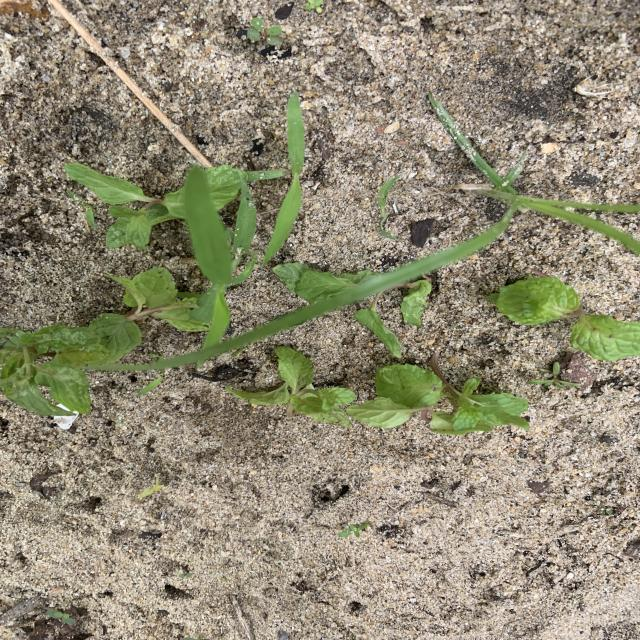crop: (354, 353, 529, 435), (487, 273, 640, 361), (84, 268, 201, 369), (65, 163, 186, 248), (233, 346, 355, 427), (0, 325, 106, 417), (273, 263, 393, 304), (354, 300, 401, 358), (194, 166, 247, 214), (401, 279, 431, 327)
weed: (140, 96, 640, 370), (183, 168, 256, 321), (263, 93, 304, 264), (236, 17, 292, 59), (376, 176, 399, 241), (528, 361, 580, 388), (66, 188, 96, 228), (138, 475, 166, 501), (338, 521, 370, 538), (46, 610, 76, 625), (304, 0, 324, 14), (598, 506, 614, 516), (184, 224, 189, 229)
